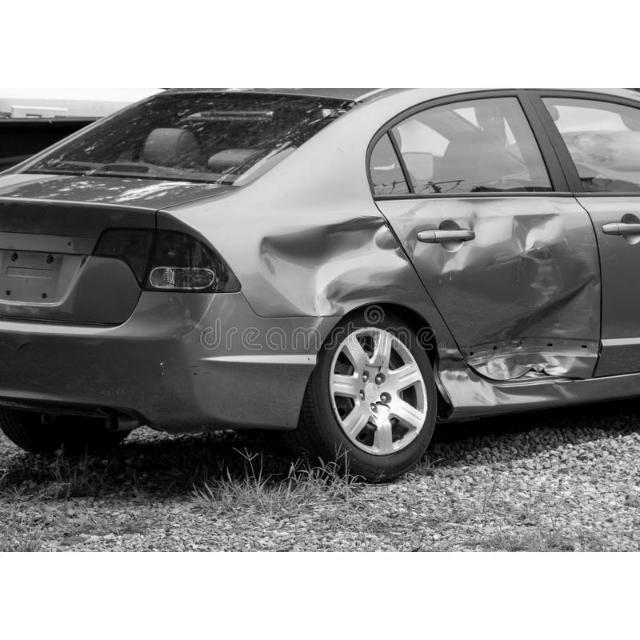Runningboard-Damage: (436, 378, 612, 414)
doorouter-dent: (410, 204, 593, 379)
quaterpanel-dent: (196, 202, 396, 344)
